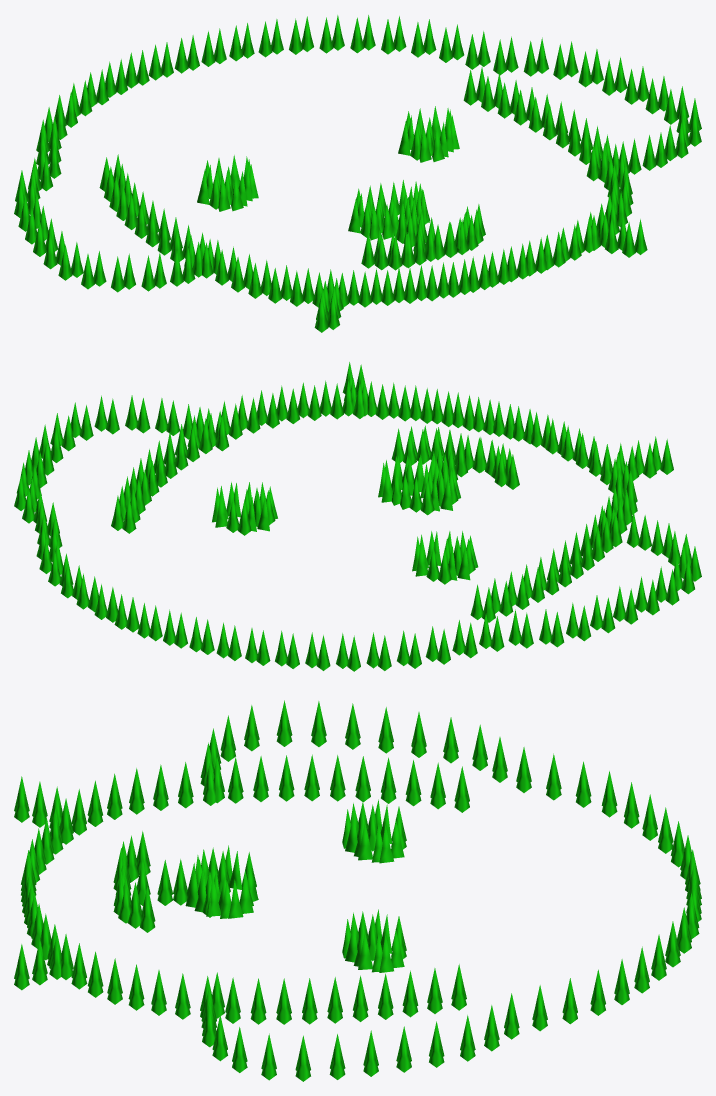
Rendered from Paint1_Stand.fbx.
The picture shows the model from 3 angles, top to bottom: view 1: azimuth 30°, elevation 25°; view 2: azimuth 150°, elevation 25°; view 3: azimuth 270°, elevation 25°; orthographic projection. The views are drawn at different scales.
Visible parts, largest first — view 1: Cylinder026, Cylinder032, Cylinder024, Cylinder035, Cylinder038, Cylinder039, Cylinder047, Cylinder003, Cylinder004, Cylinder006, Cylinder027, Cylinder028 (+28 smaller); view 2: Cylinder013, Cylinder026, Cylinder016, Cylinder018, Cylinder020, Cylinder046, Cylinder133, Cylinder003, Cylinder010, Cylinder011, Cylinder014, Cylinder019 (+36 smaller); view 3: Cylinder127, Cylinder143, Cylinder135.
Part boxes in pixels (left/top/right/bottom): Cylinder026: left=201, top=28, right=226, bottom=66; Cylinder032: left=381, top=16, right=406, bottom=54; Cylinder024: left=148, top=42, right=173, bottom=80; Cylinder035: left=465, top=31, right=490, bottom=69; Cylinder038: left=553, top=41, right=578, bottom=79; Cylinder039: left=578, top=49, right=603, bottom=87; Cylinder047: left=642, top=132, right=667, bottom=170; Cylinder003: left=170, top=248, right=195, bottom=286; Cylinder004: left=141, top=252, right=166, bottom=291; Cylinder006: left=81, top=251, right=106, bottom=289; Cylinder027: left=229, top=23, right=254, bottom=61; Cylinder028: left=258, top=19, right=283, bottom=57; Cylinder013: left=539, top=609, right=564, bottom=647; Cylinder026: left=163, top=609, right=187, bottom=648; Cylinder016: left=452, top=620, right=477, bottom=658; Cylinder018: left=397, top=630, right=421, bottom=668; Cylinder020: left=336, top=633, right=360, bottom=671; Cylinder046: left=125, top=395, right=150, bottom=433; Cylinder133: left=226, top=497, right=251, bottom=535; Cylinder003: left=626, top=512, right=651, bottom=550; Cylinder010: left=613, top=586, right=637, bottom=624; Cylinder011: left=590, top=595, right=615, bottom=633; Cylinder014: left=508, top=609, right=533, bottom=648; Cylinder019: left=366, top=632, right=391, bottom=670; Cylinder127: left=379, top=819, right=404, bottom=863; Cylinder143: left=228, top=875, right=253, bottom=918; Cylinder135: left=379, top=929, right=404, bottom=972.
Size of the model in its own units: 1382 by 68.97 by 1159.
